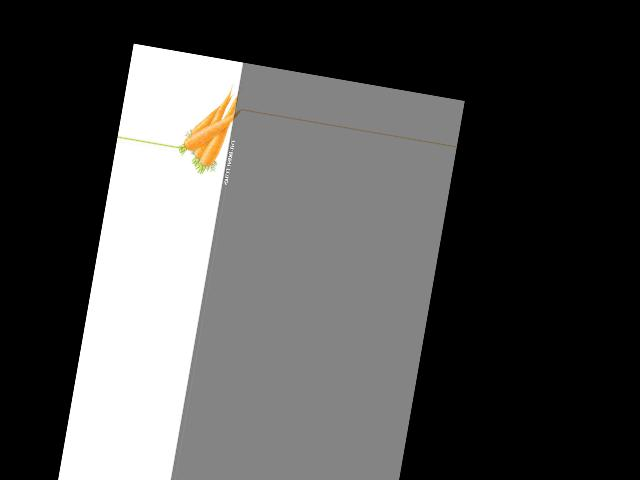carrot: (198, 113, 240, 178)
